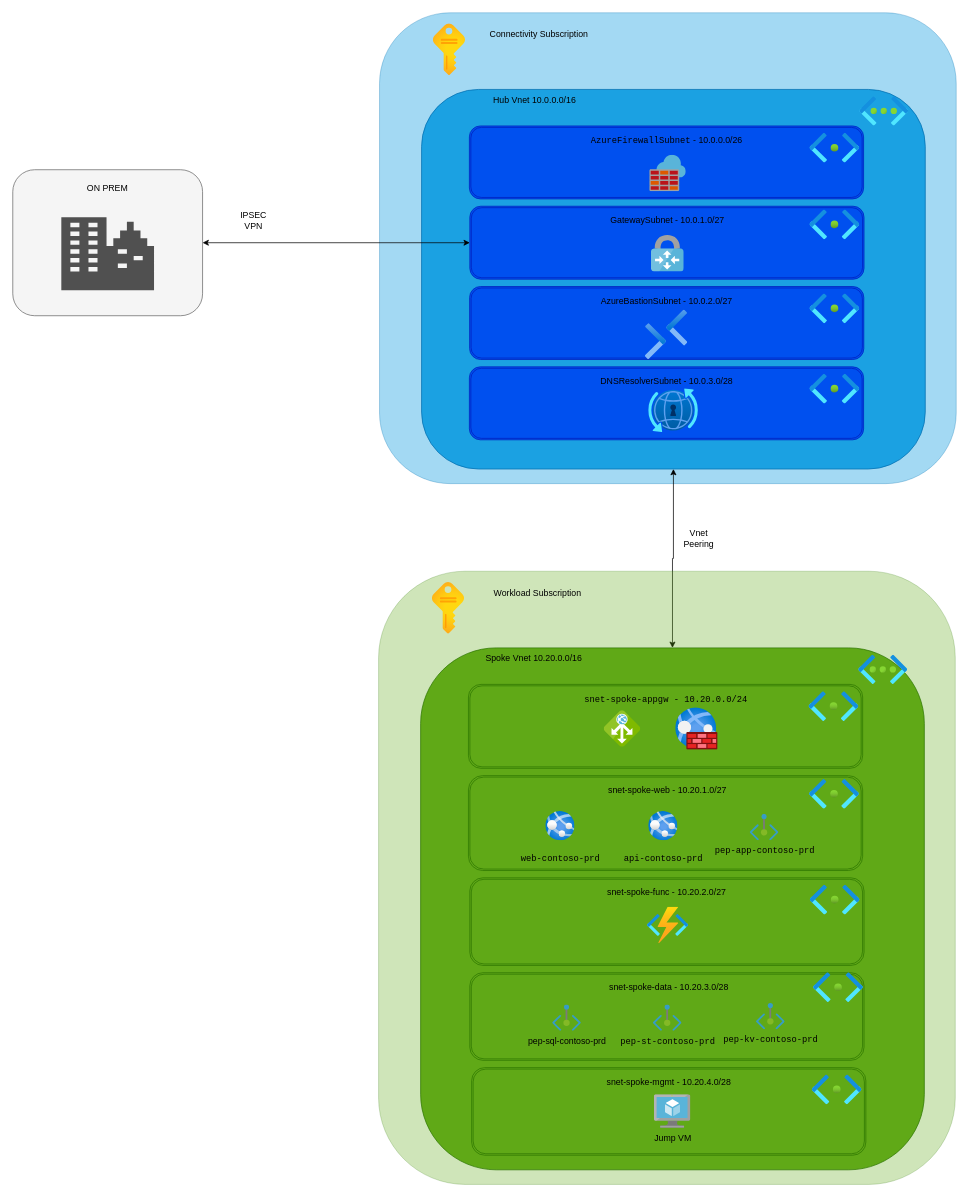
The diagram is 969 pixels wide and 1203 high, and some of its shapes have lost their labels. The box of each missing label's shape, as (x1, y1, x2, y2) in pixels:
Application gateway: (604, 710, 640, 747)
Azure Functions: (647, 907, 688, 943)
WAF: (675, 707, 718, 750)
